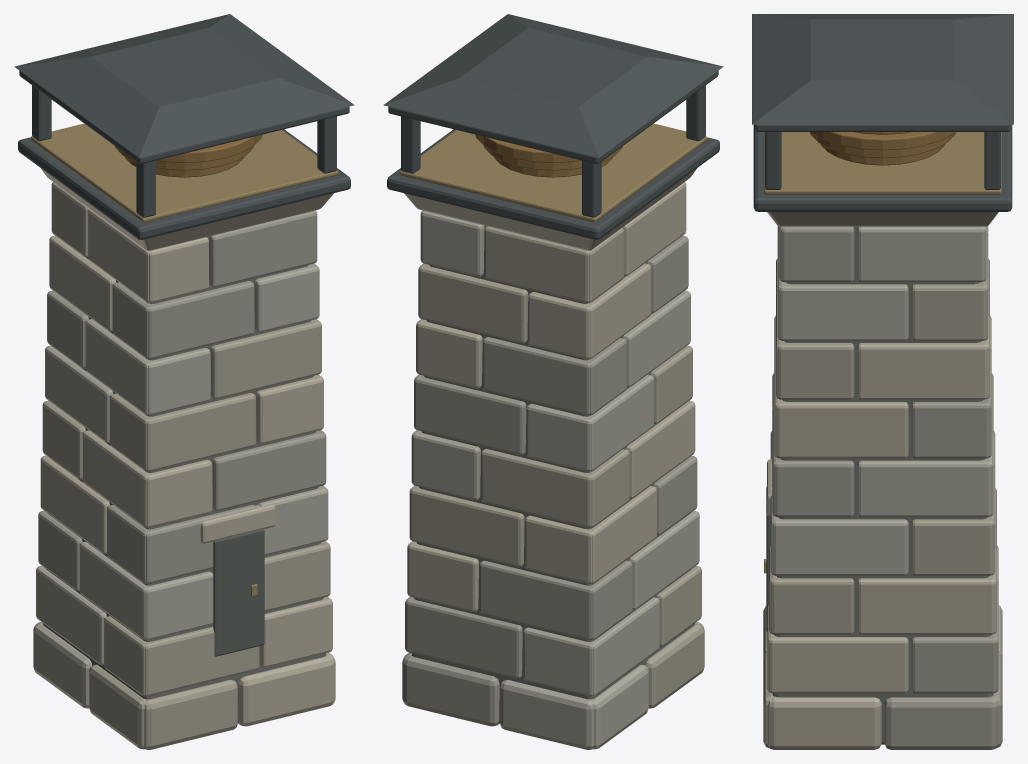
The model's file is lighthouse.glb.
The picture shows the model from 3 angles, left to right: view 1: azimuth 30°, elevation 25°; view 2: azimuth 150°, elevation 25°; view 3: azimuth 270°, elevation 25°; orthographic projection. The views are drawn at different scales.
Parts seen in each view (by area): view 1: TowerArt, LensArt; view 2: TowerArt, LensArt; view 3: TowerArt, LensArt.
Boxes of the visible parts, x1,y1,x2,y2 form: TowerArt: [14, 14, 354, 749]; LensArt: [115, 134, 262, 177]; TowerArt: [383, 14, 723, 749]; LensArt: [475, 134, 622, 177]; TowerArt: [752, 14, 1013, 749]; LensArt: [810, 132, 955, 165].
Bounding box in the file's own units: 0.8709 × 2.4 × 0.8709.
